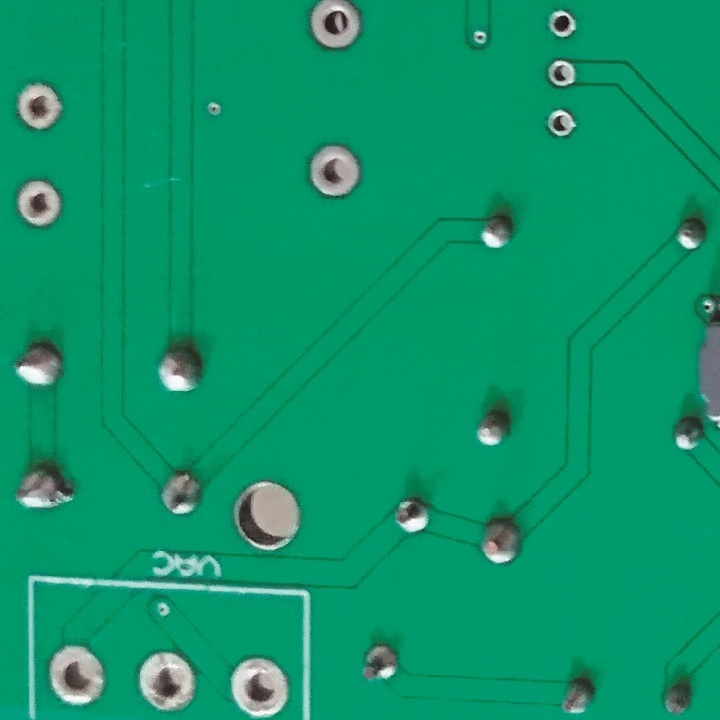F: (226, 653, 294, 720), (134, 651, 196, 714), (302, 143, 365, 203), (304, 1, 364, 58), (47, 646, 107, 702), (15, 80, 70, 135), (14, 175, 63, 230), (541, 106, 581, 142), (543, 55, 580, 93), (547, 6, 578, 42)
